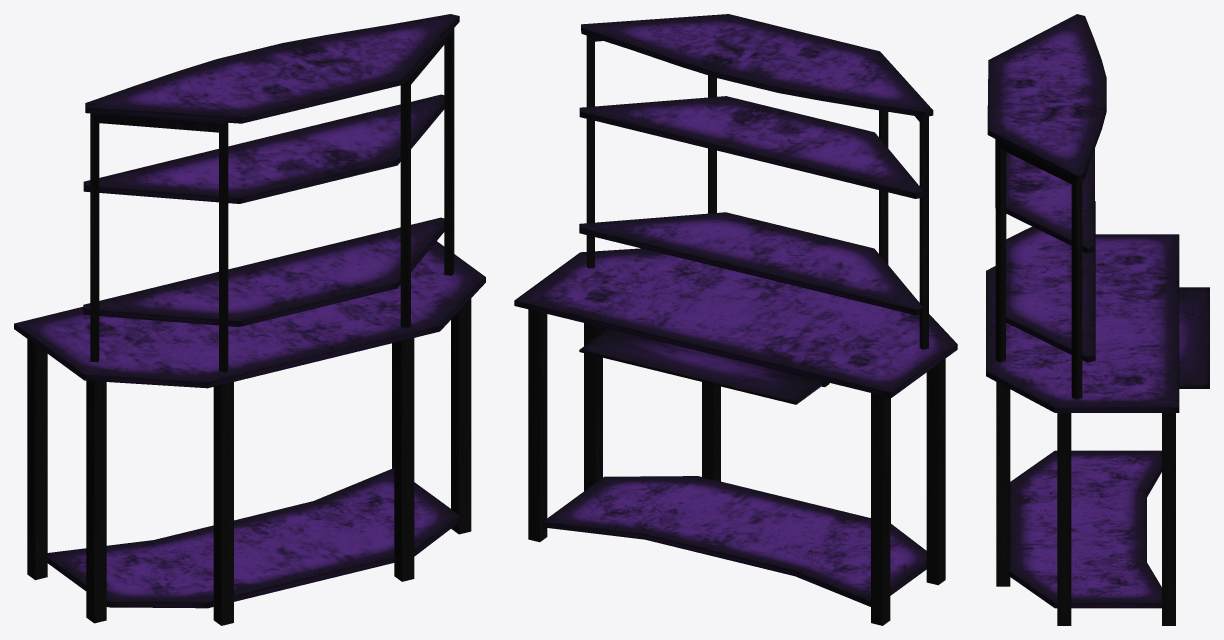
File: FUT0410003.fbx
The picture shows the model from 3 angles, left to right: view 1: azimuth 30°, elevation 25°; view 2: azimuth 150°, elevation 25°; view 3: azimuth 270°, elevation 25°; orthographic projection. The views are drawn at different scales.
Visible parts, largest first — view 1: smFUT0410003; view 2: smFUT0410003; view 3: smFUT0410003.
Boxes of the visible parts, left/top/right/bottom form: smFUT0410003: left=14, top=14, right=485, bottom=625; smFUT0410003: left=514, top=14, right=957, bottom=625; smFUT0410003: left=986, top=14, right=1209, bottom=625.
Bounding box in the file's own units: 176 × 212 × 95.64.
1 material, 1 textured.
